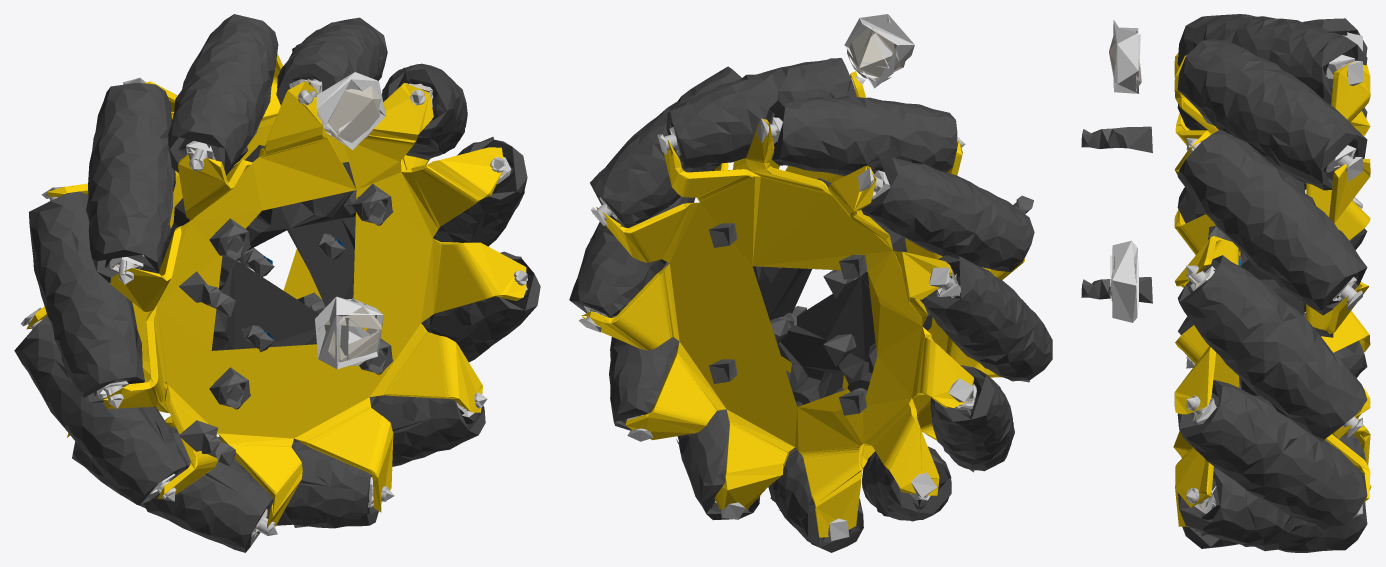
The model's file is wheelFL.glb.
3 renders of one model, left to right at view 1: azimuth 30°, elevation 25°; view 2: azimuth 150°, elevation 25°; view 3: azimuth 270°, elevation 25°, orthographic. The views are drawn at different scales.
Visible parts, largest first — view 1: wheelFL_0, wheelFL_3, wheelFL_4, wheelFL_1, wheelFL_2, wheelFL_5, wheelFL_6; view 2: wheelFL_0, wheelFL_3, wheelFL_4, wheelFL_1, wheelFL_6, wheelFL_2, wheelFL_5; view 3: wheelFL_0, wheelFL_3, wheelFL_2, wheelFL_1, wheelFL_6, wheelFL_4, wheelFL_5.
Boxes of the visible parts, x1,y1,x2,y2 form: wheelFL_0: [14, 14, 540, 552]; wheelFL_3: [26, 53, 526, 528]; wheelFL_4: [94, 72, 529, 513]; wheelFL_1: [179, 183, 393, 466]; wheelFL_2: [97, 72, 527, 537]; wheelFL_5: [105, 77, 509, 535]; wheelFL_6: [21, 77, 527, 535]; wheelFL_0: [569, 58, 1052, 552]; wheelFL_3: [581, 71, 1024, 537]; wheelFL_4: [606, 115, 981, 542]; wheelFL_1: [709, 195, 1033, 415]; wheelFL_6: [579, 76, 974, 540]; wheelFL_2: [584, 14, 976, 502]; wheelFL_5: [589, 28, 974, 508]; wheelFL_0: [1177, 14, 1367, 552]; wheelFL_3: [1173, 53, 1371, 526]; wheelFL_2: [1110, 20, 1356, 513]; wheelFL_1: [1081, 126, 1333, 388]; wheelFL_6: [1186, 32, 1362, 528]; wheelFL_4: [1187, 30, 1358, 535]; wheelFL_5: [1109, 30, 1353, 532].
Size of the model in its own units: 4.09 by 4.24 by 2.2.
